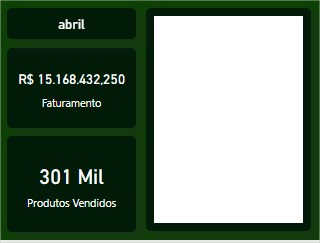

The dashboard page shown, as its layout file describes it:
{"tool":"powerbi","page":{"name":"Tooltip","canvas":[320,240],"ordinal":2},"visuals":[{"type":"card","fields":{"Values":["Medidas.TotalDaVenda"]},"box":[7,48,129,80],"z":0},{"type":"card","fields":{"Values":["Medidas.QuantidadeProdutos"]},"box":[7,136,129,96],"z":1000},{"type":"enlightenDataStoryDDFB78A6143E42CFAFBC50CCF18D978D","fields":{"measure":["Medidas.ResumoLucro"]},"box":[146.2,7.5,165,223.8],"z":2000},{"type":"card","fields":{"Values":["Min(Vendas_de_Supermercado_no_Brasi.DataVenda.Variation.Hierarquia de datas.Mês)"]},"box":[7,8,129,31],"z":2001}]}

Visuals, with their boxes in screenshot pixels (x1, y1, x2, y2), scaled from the page's 320x240 canvas onto the 320x243 screenshot:
card - Medidas.TotalDaVenda: crop(7, 49, 136, 130)
card - Medidas.QuantidadeProdutos: crop(7, 138, 136, 235)
enlightenDataStoryDDFB78A6143E42CFAFBC50CCF18D978D - Medidas.ResumoLucro: crop(146, 8, 311, 234)
card - Min(Vendas_de_Supermercado_no_Brasi.DataVenda.Variation.Hierarquia de datas.Mês): crop(7, 8, 136, 39)
